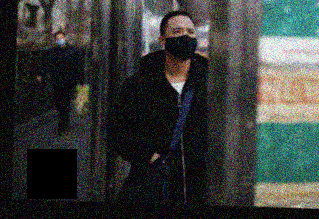with_mask: (165, 23, 198, 60), (54, 35, 66, 47)
